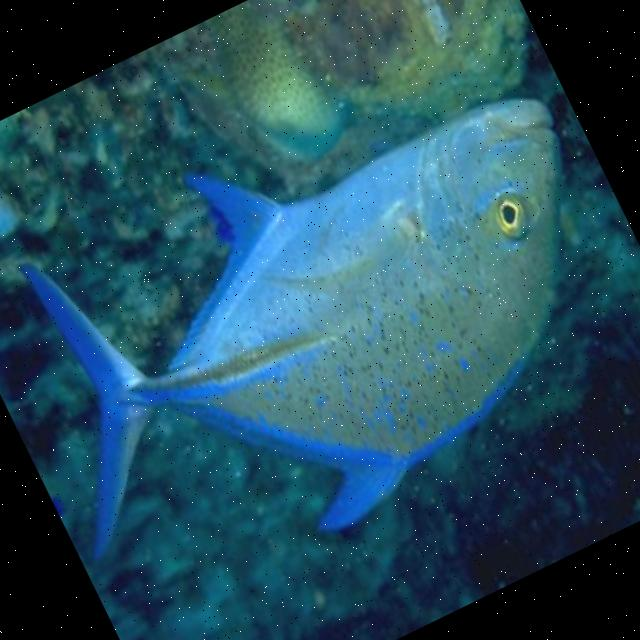ikan: (0, 16, 640, 635)
